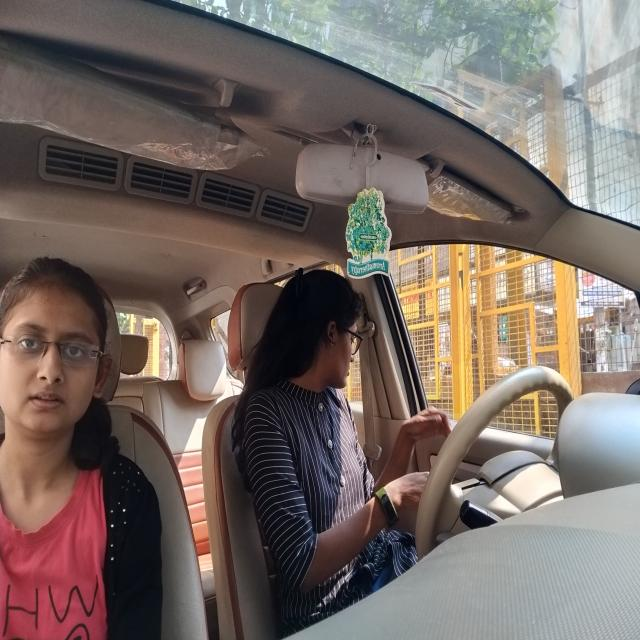LeftRight: (262, 255, 385, 450)
person: (0, 246, 137, 487)
